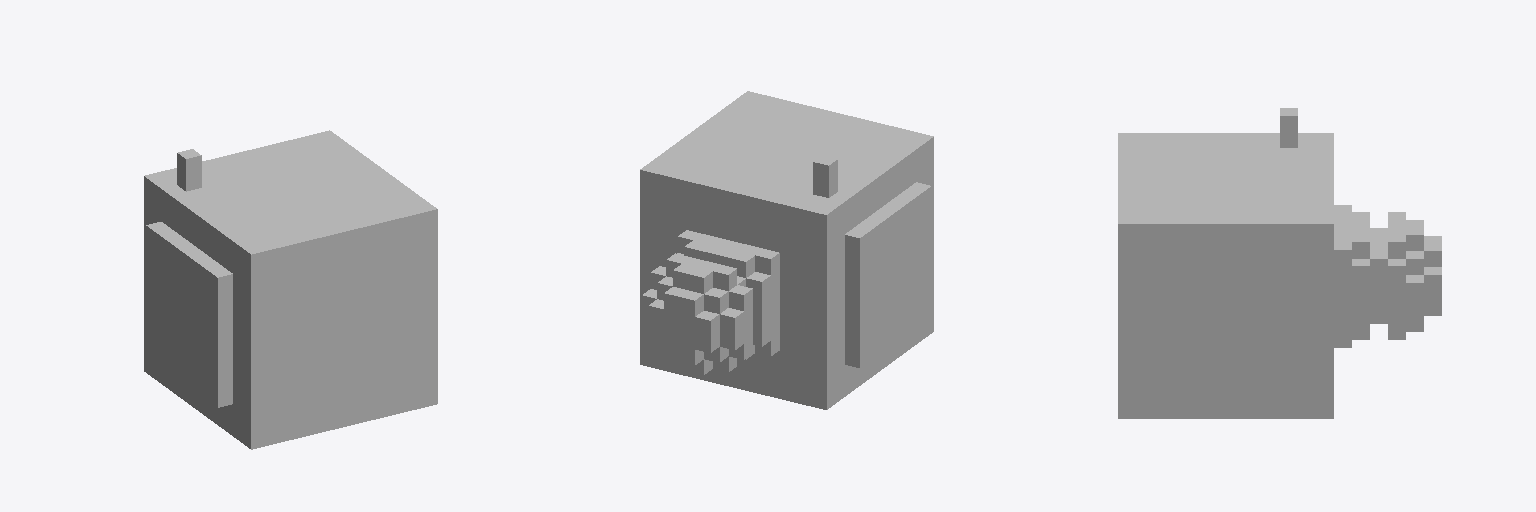
Rendered from cam.obj.
The picture shows the model from 3 angles: view 1: azimuth 30°, elevation 25°; view 2: azimuth 150°, elevation 25°; view 3: azimuth 270°, elevation 25°; orthographic projection.
Parts seen in each view (by area): view 1: object 1; view 2: object 1; view 3: object 1.
Boxes of the visible parts, <box> form: object 1: <box>144,130,437,449</box>; object 1: <box>640,91,933,409</box>; object 1: <box>1118,108,1441,418</box>.
Size of the model in its own units: 1.3 by 1.4 by 1.8.